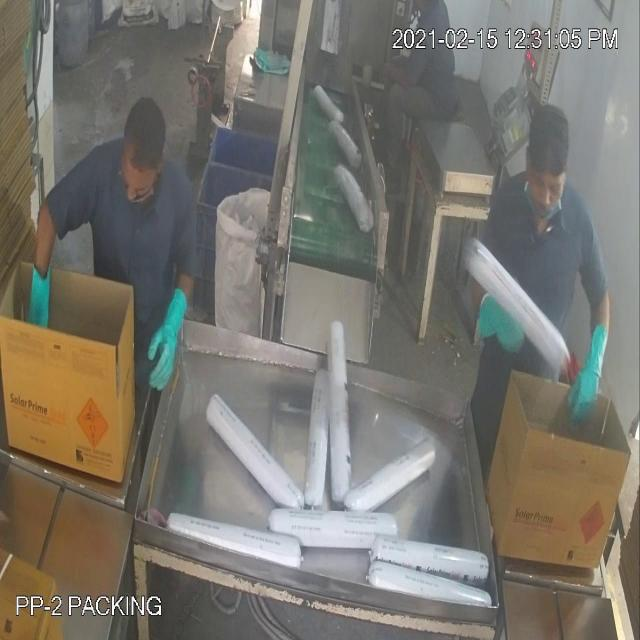Gloves: (55, 62, 590, 370)
